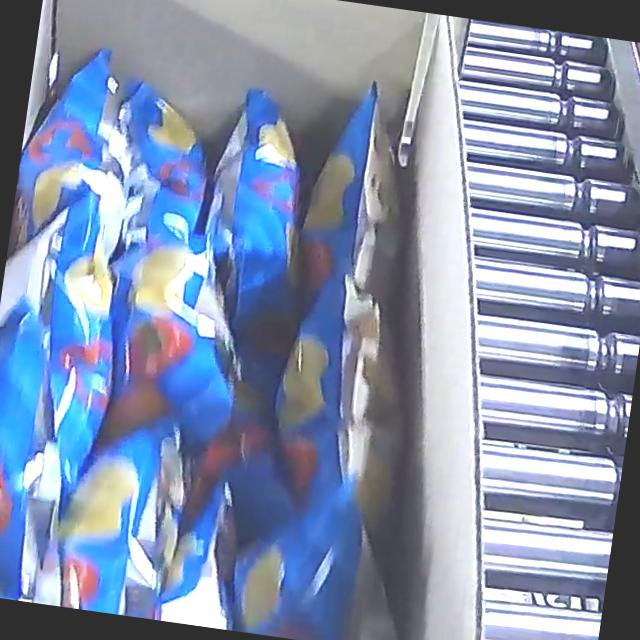paprika: (0, 30, 433, 640)
